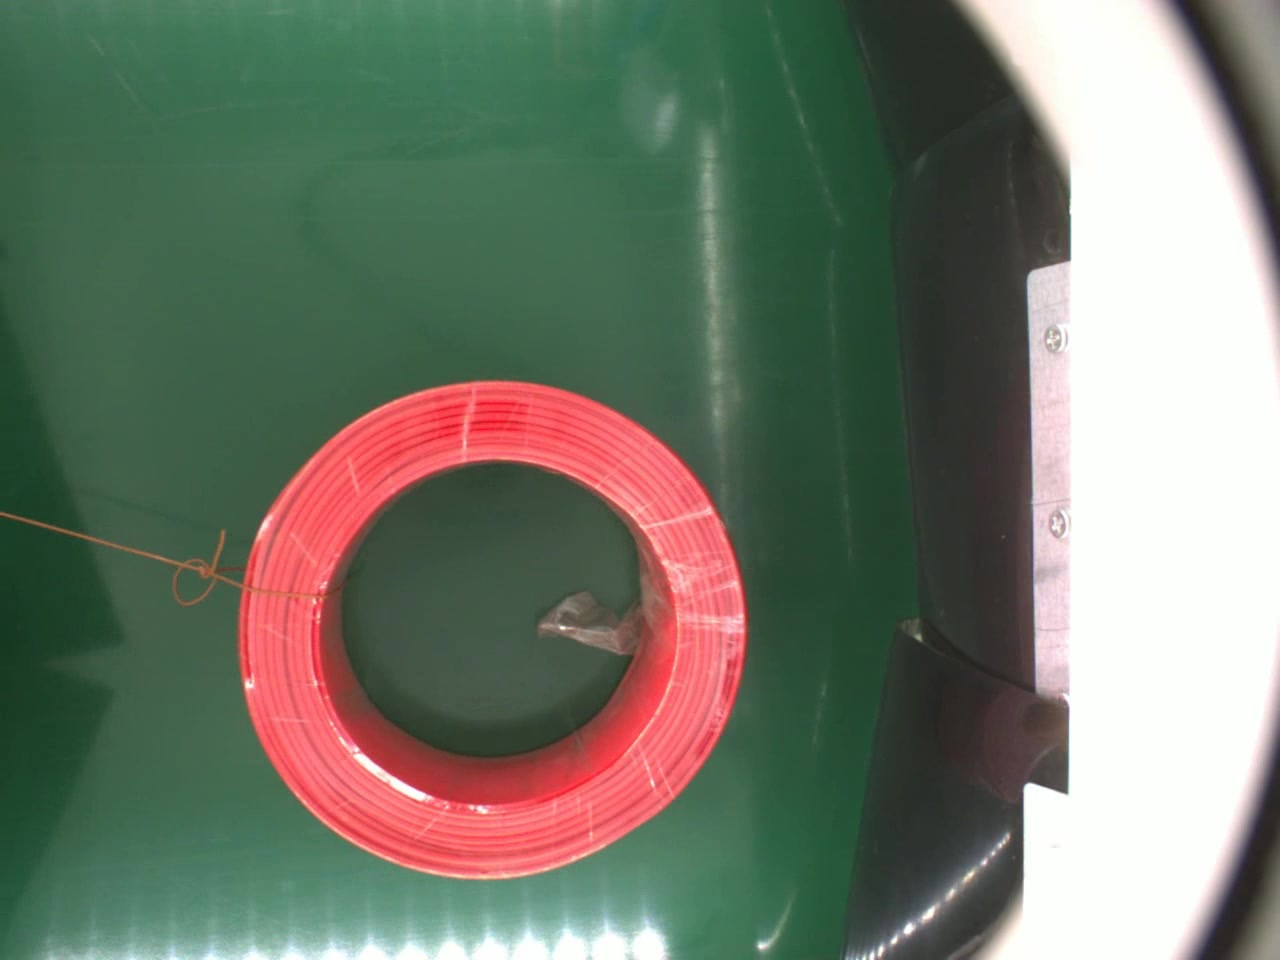red: (234, 378, 750, 881)
